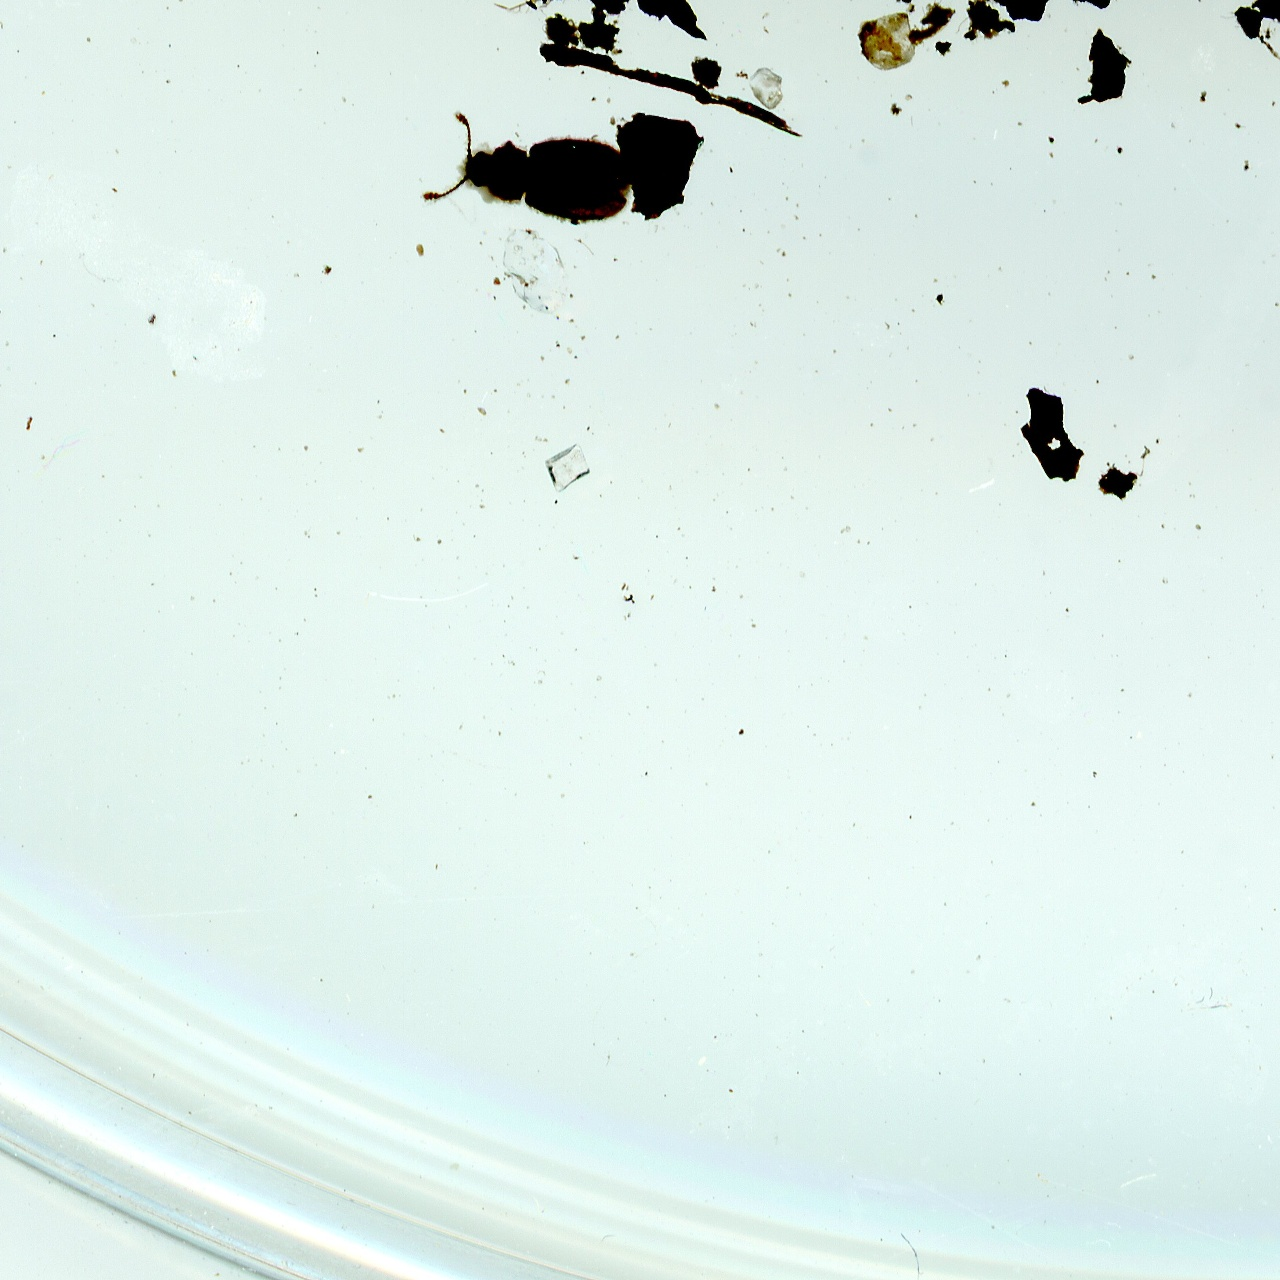arthropod: (415, 104, 636, 233)
